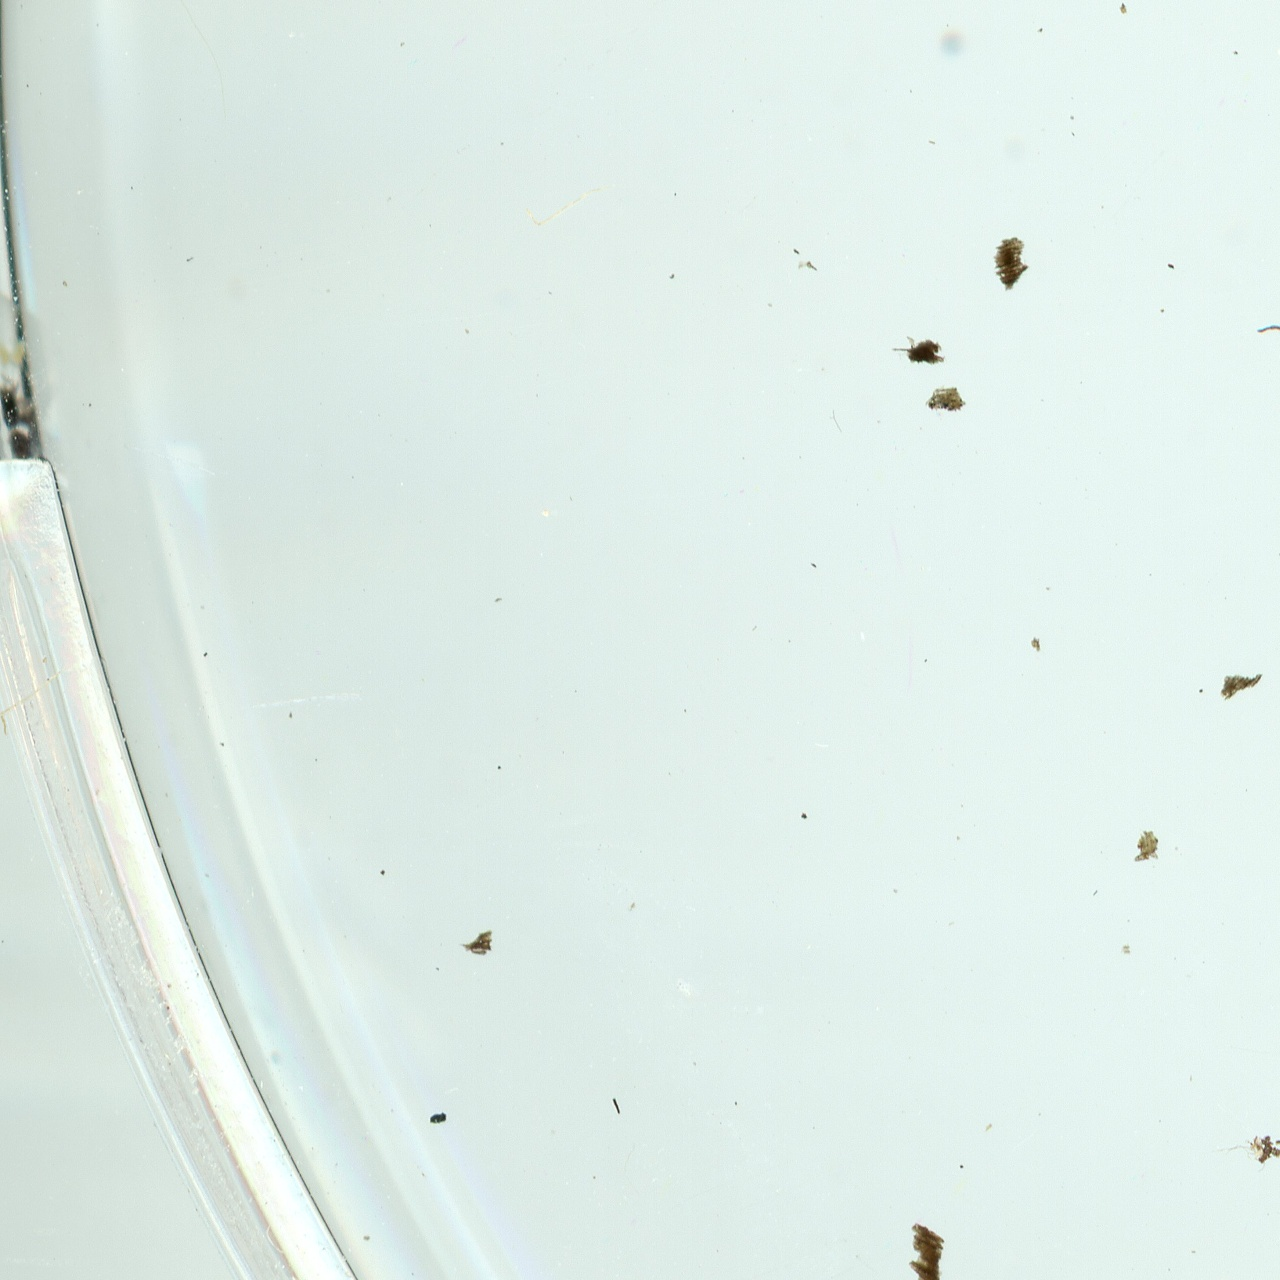arthropod: (1253, 302, 1280, 363)
